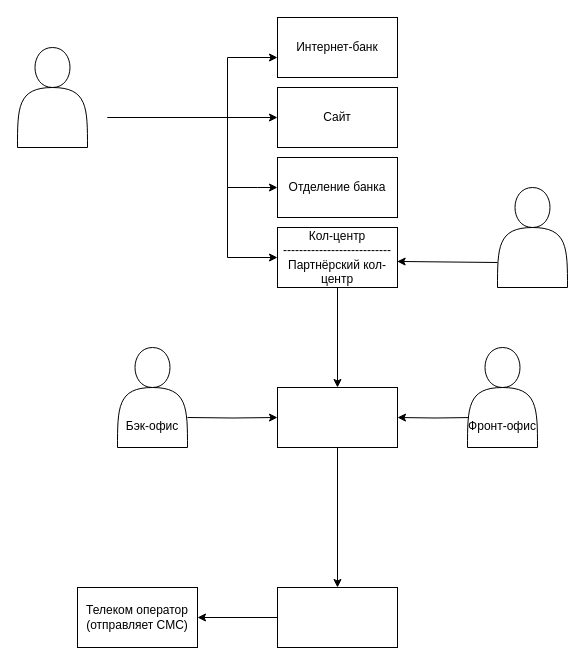
Some shapes in this 585 by 665 pixel diagram are drawn without their labels. Here are the shapes that lost their labels. From the top down, the centre of each, then its label:
At point 52,97: "Клиент".
At point 532,237: "Оператор кол-центра".
At point 337,417: "АБС".
At point 337,617: "СМС-шлюз".
